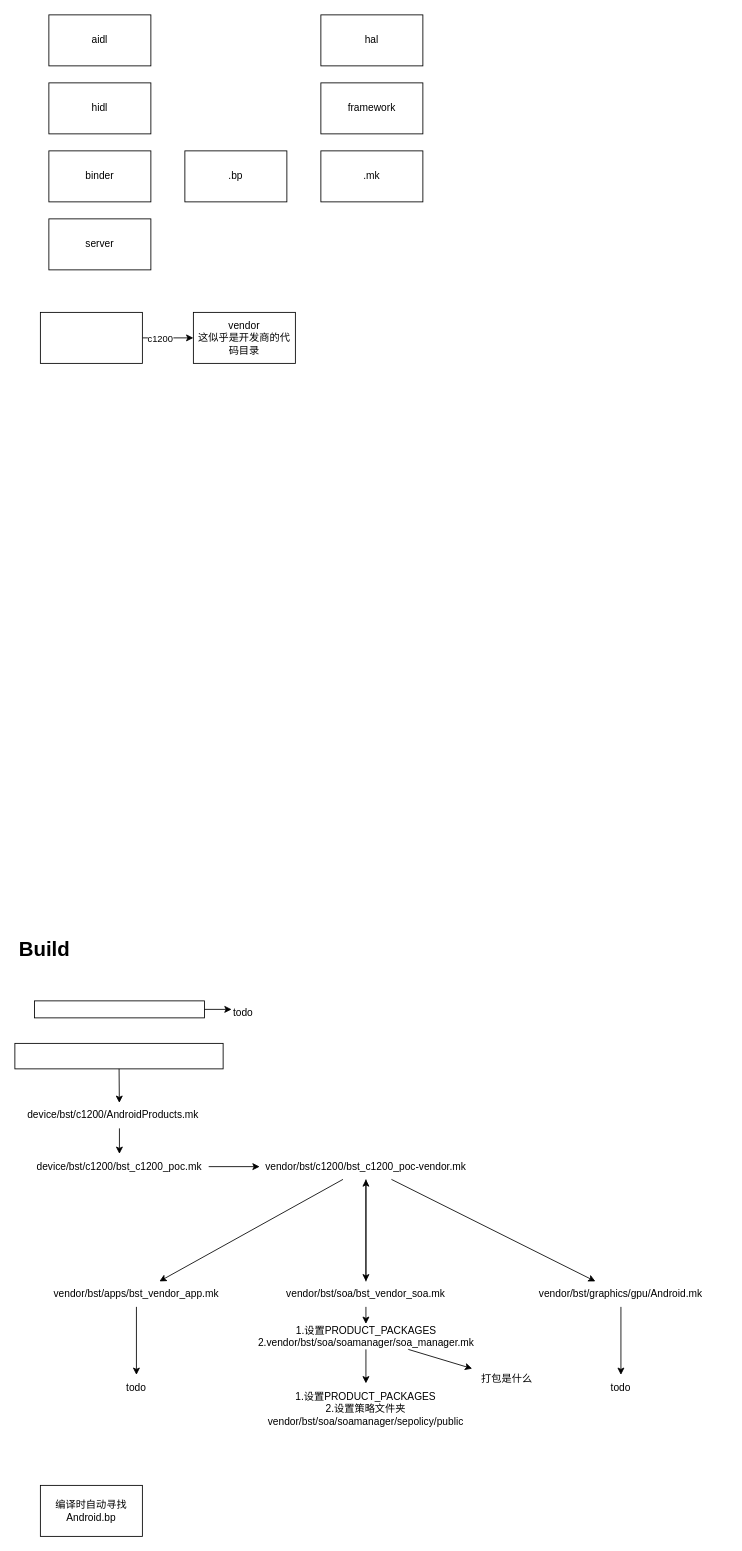
The diagram is 742 pixels wide and 1551 high, and some of its shapes have lost their labels. Each missing label, with the centre of its shape:
"command: lunch bst_c1200_poc-userdebug" belongs at (x=118, y=1056).
"command: source build/envsetup.sh" belongs at (x=119, y=1009).
"device 配置平台，这样编译的时候就可以选择这个平台了" belongs at (x=91, y=337).
